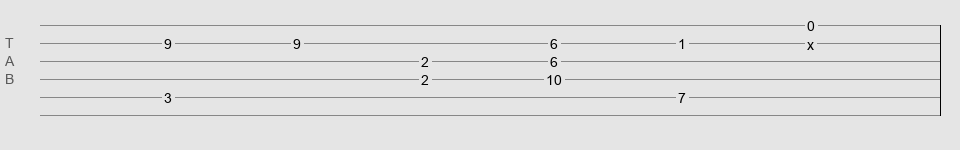0: (807, 18, 815, 28)
1: (678, 36, 686, 46)
10: (546, 72, 562, 82)
2: (421, 54, 429, 64), (421, 72, 429, 82)
3: (164, 90, 172, 100)
6: (550, 36, 558, 46), (550, 54, 558, 64)
7: (678, 90, 686, 100)
9: (164, 36, 172, 46), (293, 36, 301, 46)
x: (807, 37, 814, 45)
